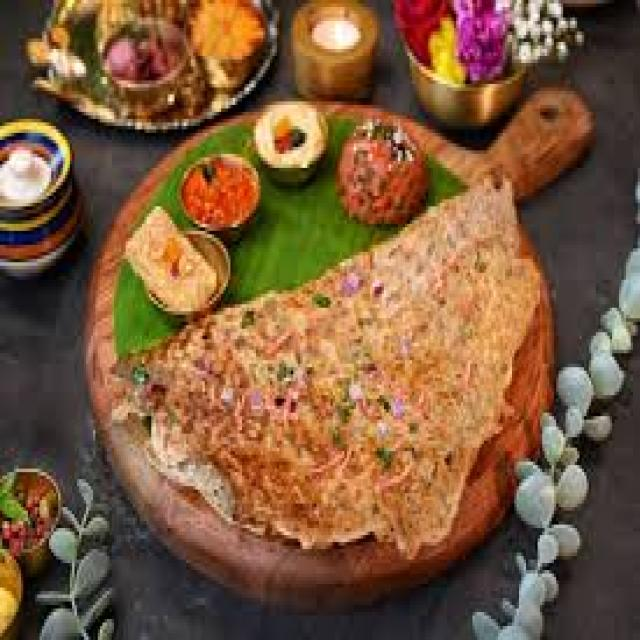DOSA: (120, 175, 536, 561)
